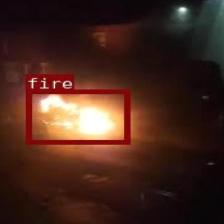fire: (25, 89, 128, 143)
